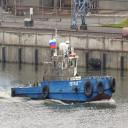tugboat: (11, 37, 117, 106)
